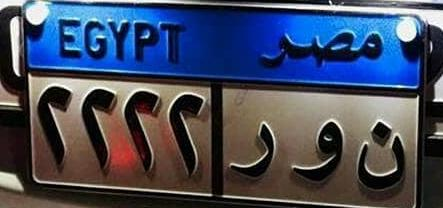2: (165, 88, 208, 182), (119, 86, 162, 177), (34, 82, 76, 174), (79, 86, 119, 177)
noon: (352, 114, 408, 202)
raa: (221, 106, 278, 182)
waw: (285, 108, 346, 192)
